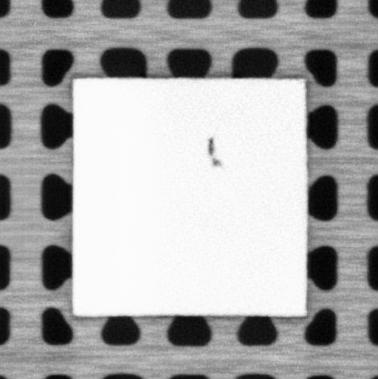DIE_INK: (210, 156, 224, 168), (206, 136, 215, 154)
